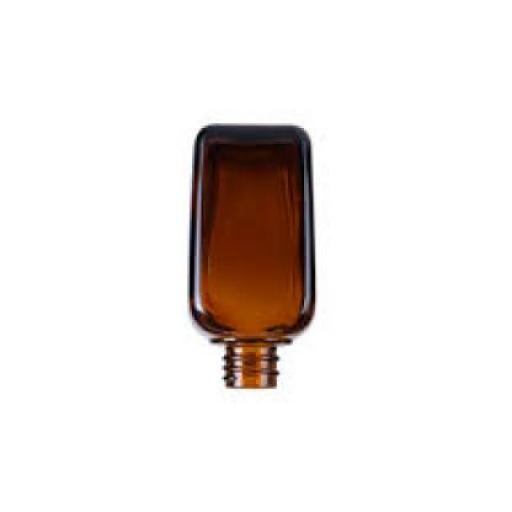glass: (182, 128, 316, 394)
